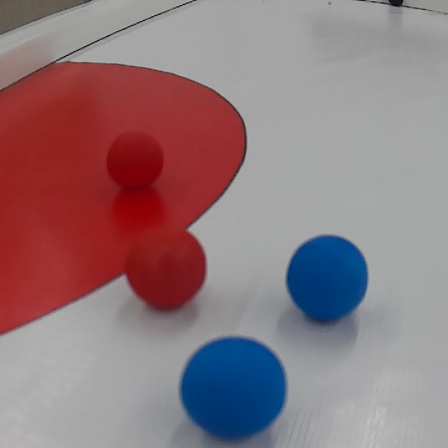blue: (171, 332, 290, 442), (284, 233, 369, 322)
red: (124, 222, 212, 308), (107, 135, 172, 183)
red_base: (0, 59, 246, 337)
